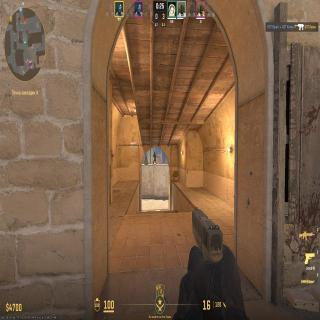CT-Body: (152, 152, 158, 166)
CT-Head: (154, 150, 156, 157)
